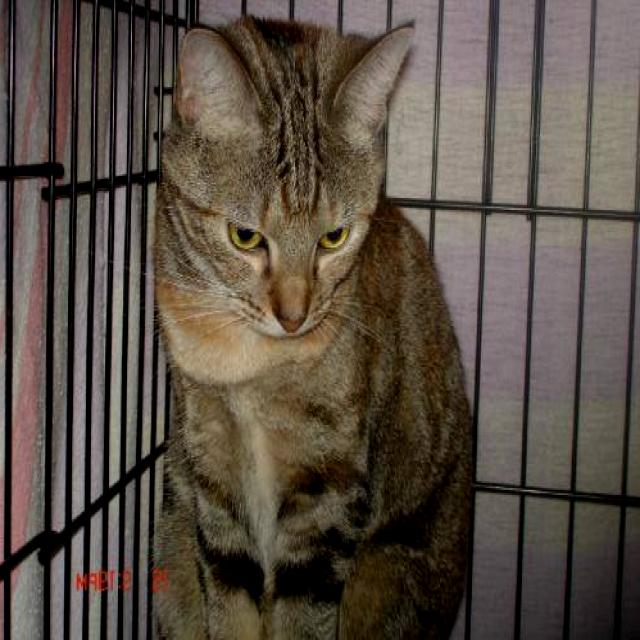Kucing: (115, 0, 481, 624)
